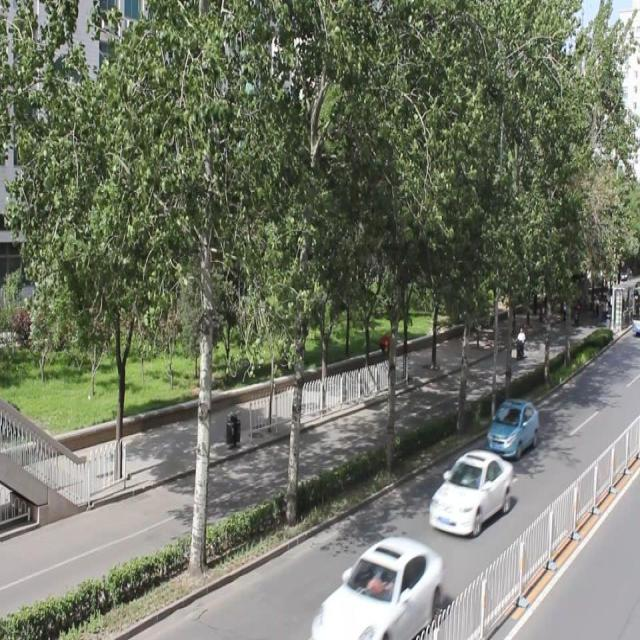car: (313, 534, 443, 640), (427, 448, 512, 535), (486, 396, 538, 457)
